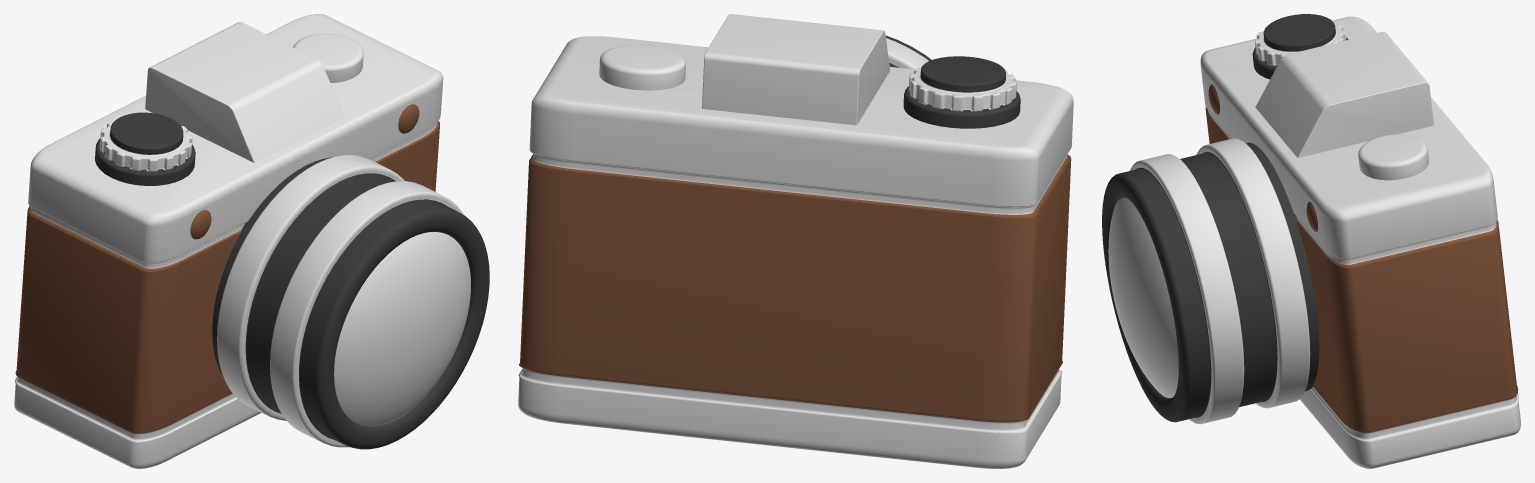
Rendered from camera.fbx.
3 views of the same model, side by side, from view 1: azimuth 30°, elevation 25°; view 2: azimuth 150°, elevation 25°; view 3: azimuth 270°, elevation 25° (orthographic). The views are drawn at different scales.
Visible parts, largest first — view 1: Cube.010, Cylinder.023, Sphere.004, Cube.014, Cylinder.047, Cylinder.021; view 2: Cube.010, Cube.014, Cylinder.047, Cylinder.021, Cylinder.023; view 3: Cube.010, Cylinder.023, Cube.014, Sphere.004, Cylinder.047, Cylinder.021.
Boxes of the visible parts, left/top/right/bottom form: Cube.010: left=14, top=14, right=443, bottom=468; Cylinder.023: left=212, top=155, right=489, bottom=449; Sphere.004: left=334, top=232, right=470, bottom=426; Cube.014: left=145, top=22, right=344, bottom=162; Cylinder.047: left=95, top=112, right=195, bottom=185; Cylinder.021: left=293, top=33, right=363, bottom=82; Cube.010: left=518, top=36, right=1073, bottom=468; Cube.014: left=702, top=14, right=890, bottom=125; Cylinder.047: left=903, top=56, right=1020, bottom=128; Cylinder.021: left=599, top=44, right=685, bottom=90; Cylinder.023: left=885, top=35, right=931, bottom=69; Cube.010: left=1200, top=16, right=1520, bottom=468; Cylinder.023: left=1102, top=138, right=1319, bottom=424; Cube.014: left=1255, top=32, right=1433, bottom=157; Sphere.004: left=1108, top=197, right=1178, bottom=398; Cylinder.047: left=1252, top=14, right=1348, bottom=79; Cylinder.021: left=1358, top=134, right=1428, bottom=180.
Size of what is drawn, in the model's own units: 504 by 388 by 452.
